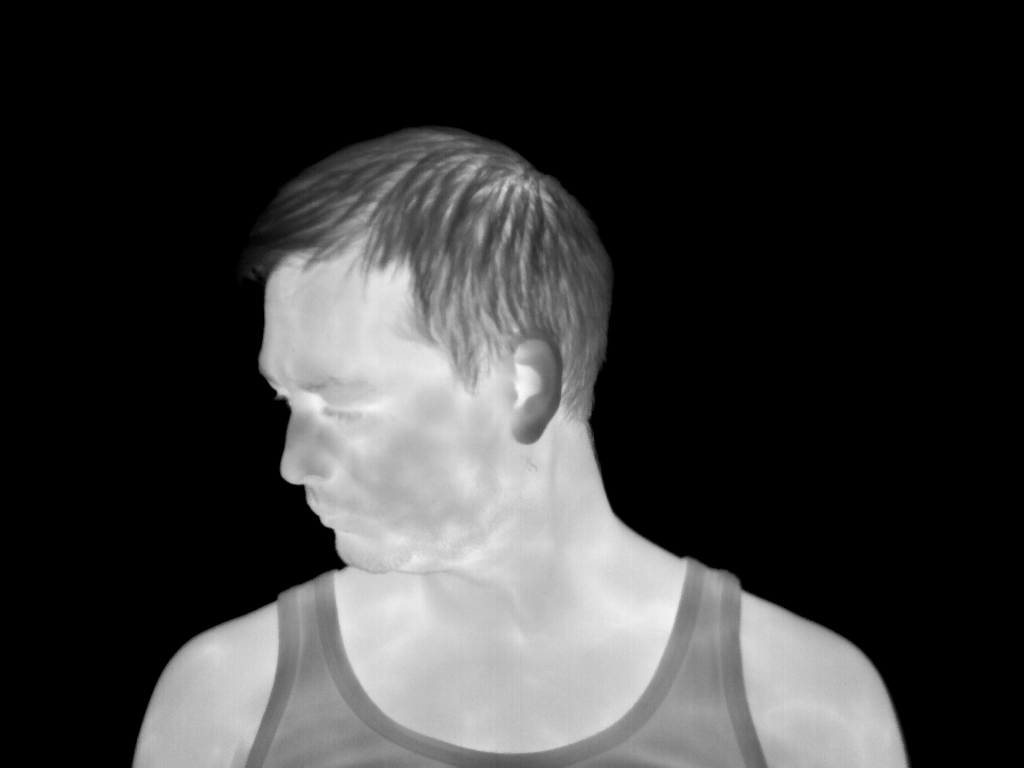face: (257, 261, 500, 578)
